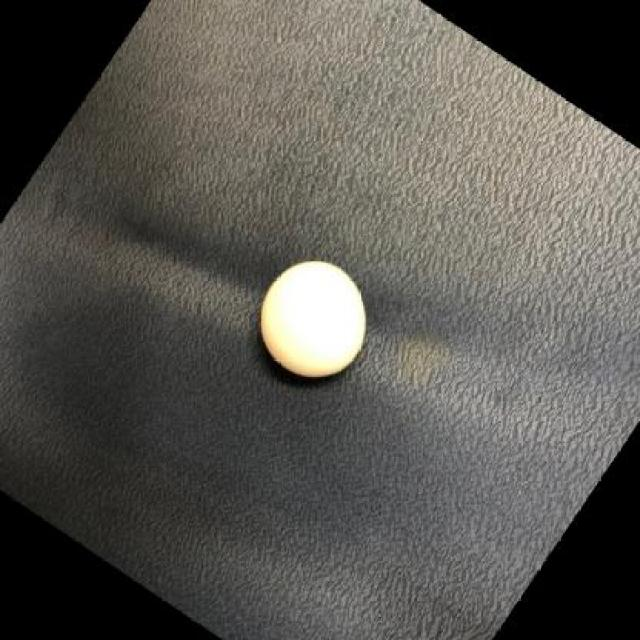egg: (256, 257, 370, 383)
